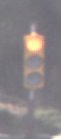Red: (22, 27, 43, 92)
